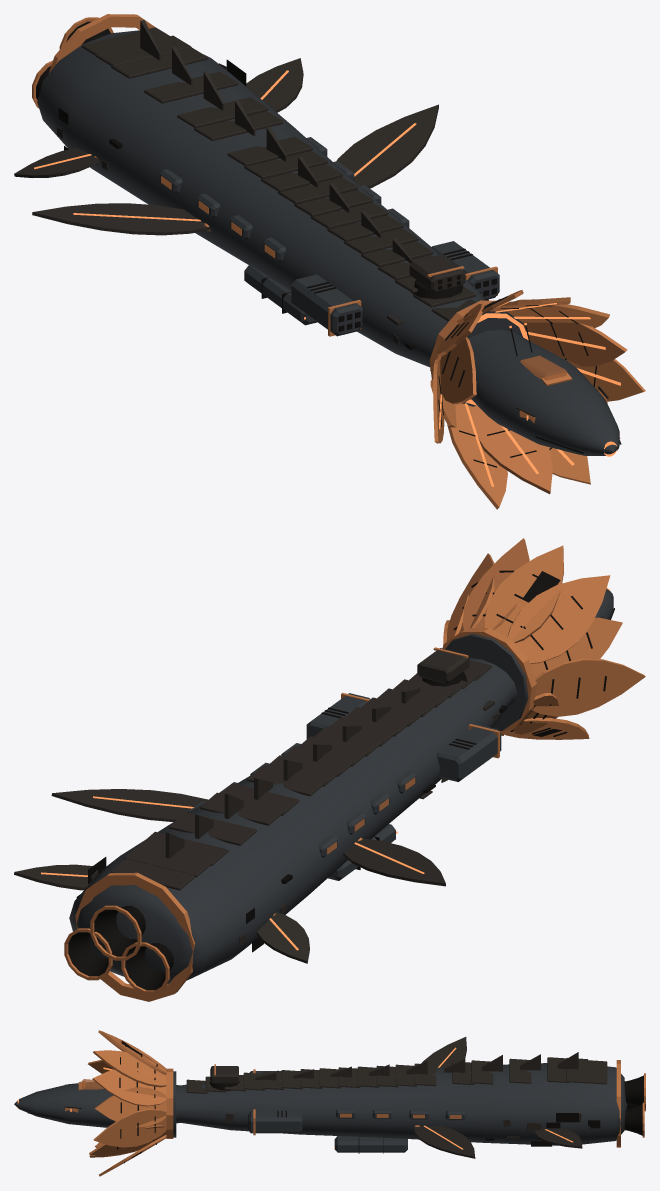
File: kryza-heliotropi-coalition-29-lod0.glb
The picture shows the model from 3 angles, top to bottom: view 1: azimuth 30°, elevation 25°; view 2: azimuth 150°, elevation 25°; view 3: azimuth 270°, elevation 25°; orthographic projection. The views are drawn at different scales.
Size of the model in its own units: 21.65 by 10.31 by 47.7.
